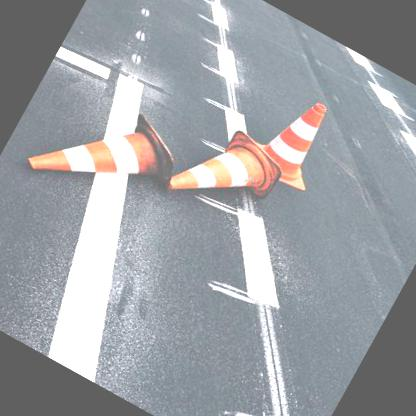cone: (25, 78, 191, 230), (164, 110, 292, 233), (242, 82, 346, 194)
